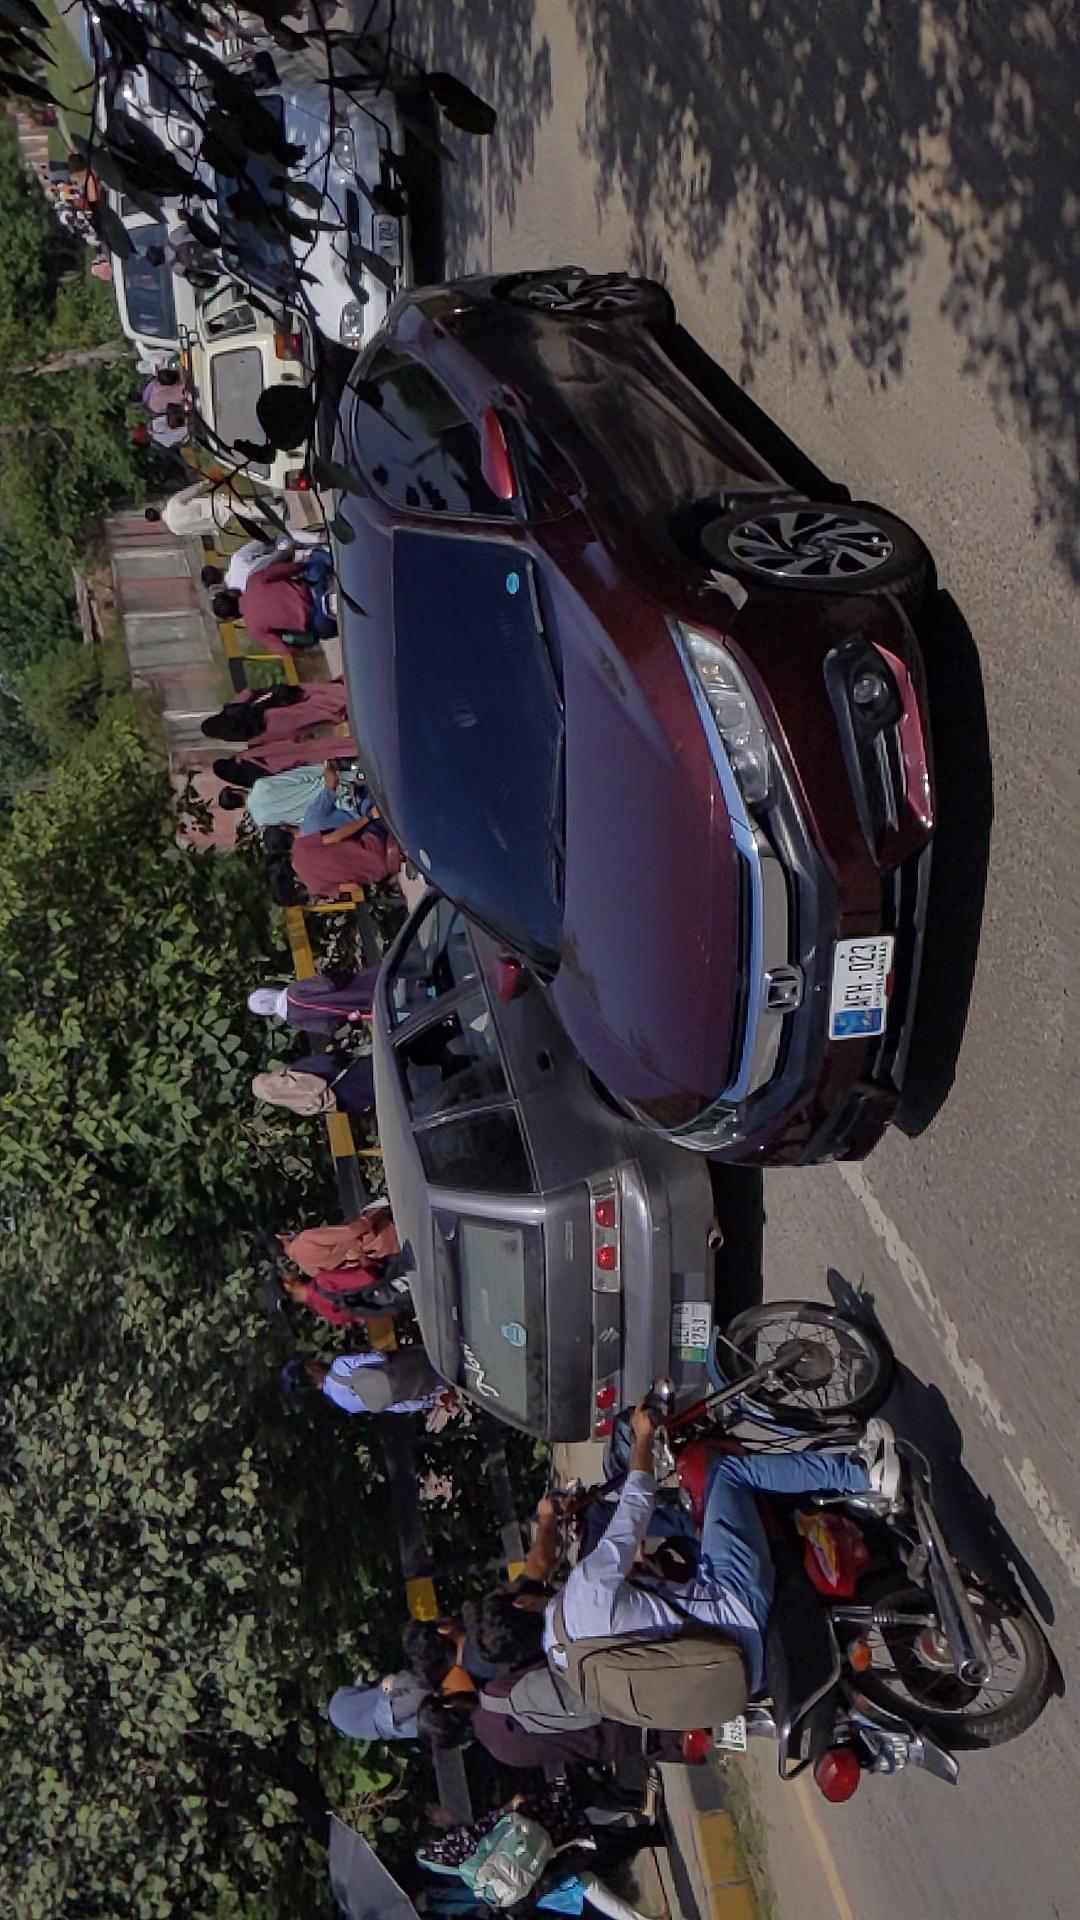windshield: (509, 663, 787, 989)
